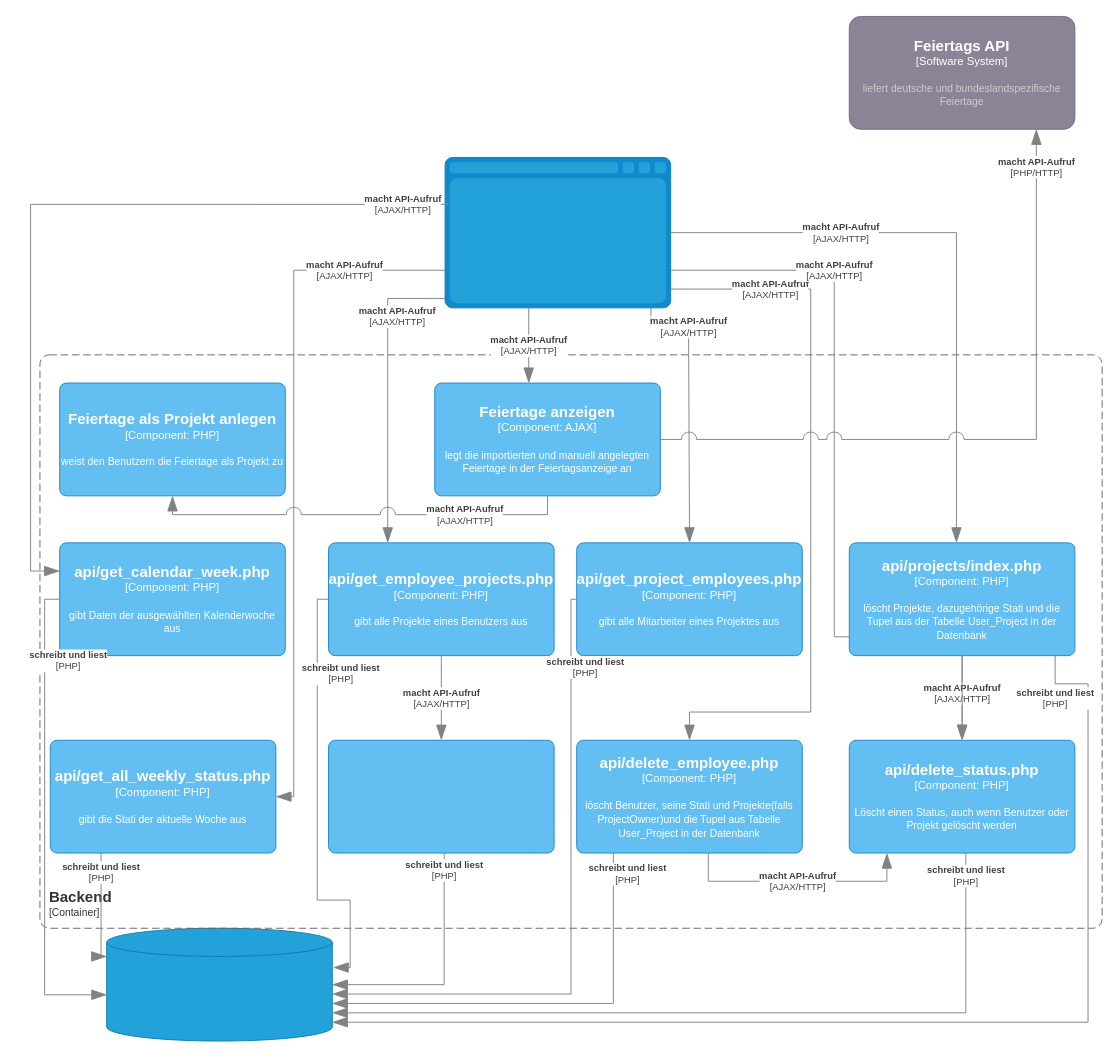
The diagram is 1120 pixels wide and 1058 high, and some of its shapes have lost their labels. The shapes that lost their labels are listed below. From the top down, each one's centre as x and y in pixels, then its label:
the point at 557,232: Webbrowser [Container: JavaScript] stellt User-Interface zur Verfügung
the point at 441,796: api/add_status.php [Component: PHP] legt Stati in der Datenbank an
the point at 219,984: Datenbank [Container: Maria DB] Speichert Datenbankobjekte
